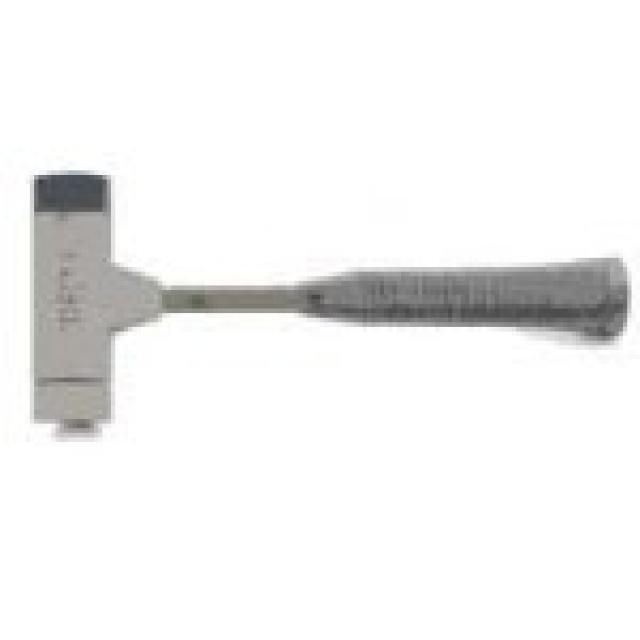hammer: (17, 161, 636, 442)
